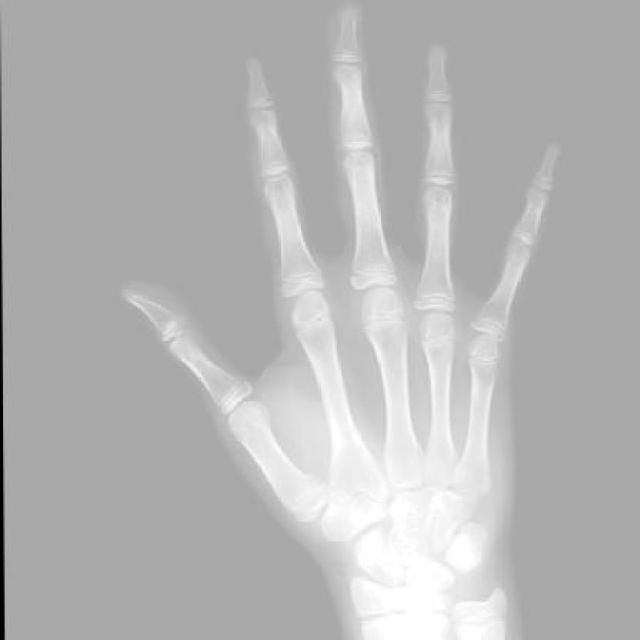Fracture: (283, 471, 323, 511)
